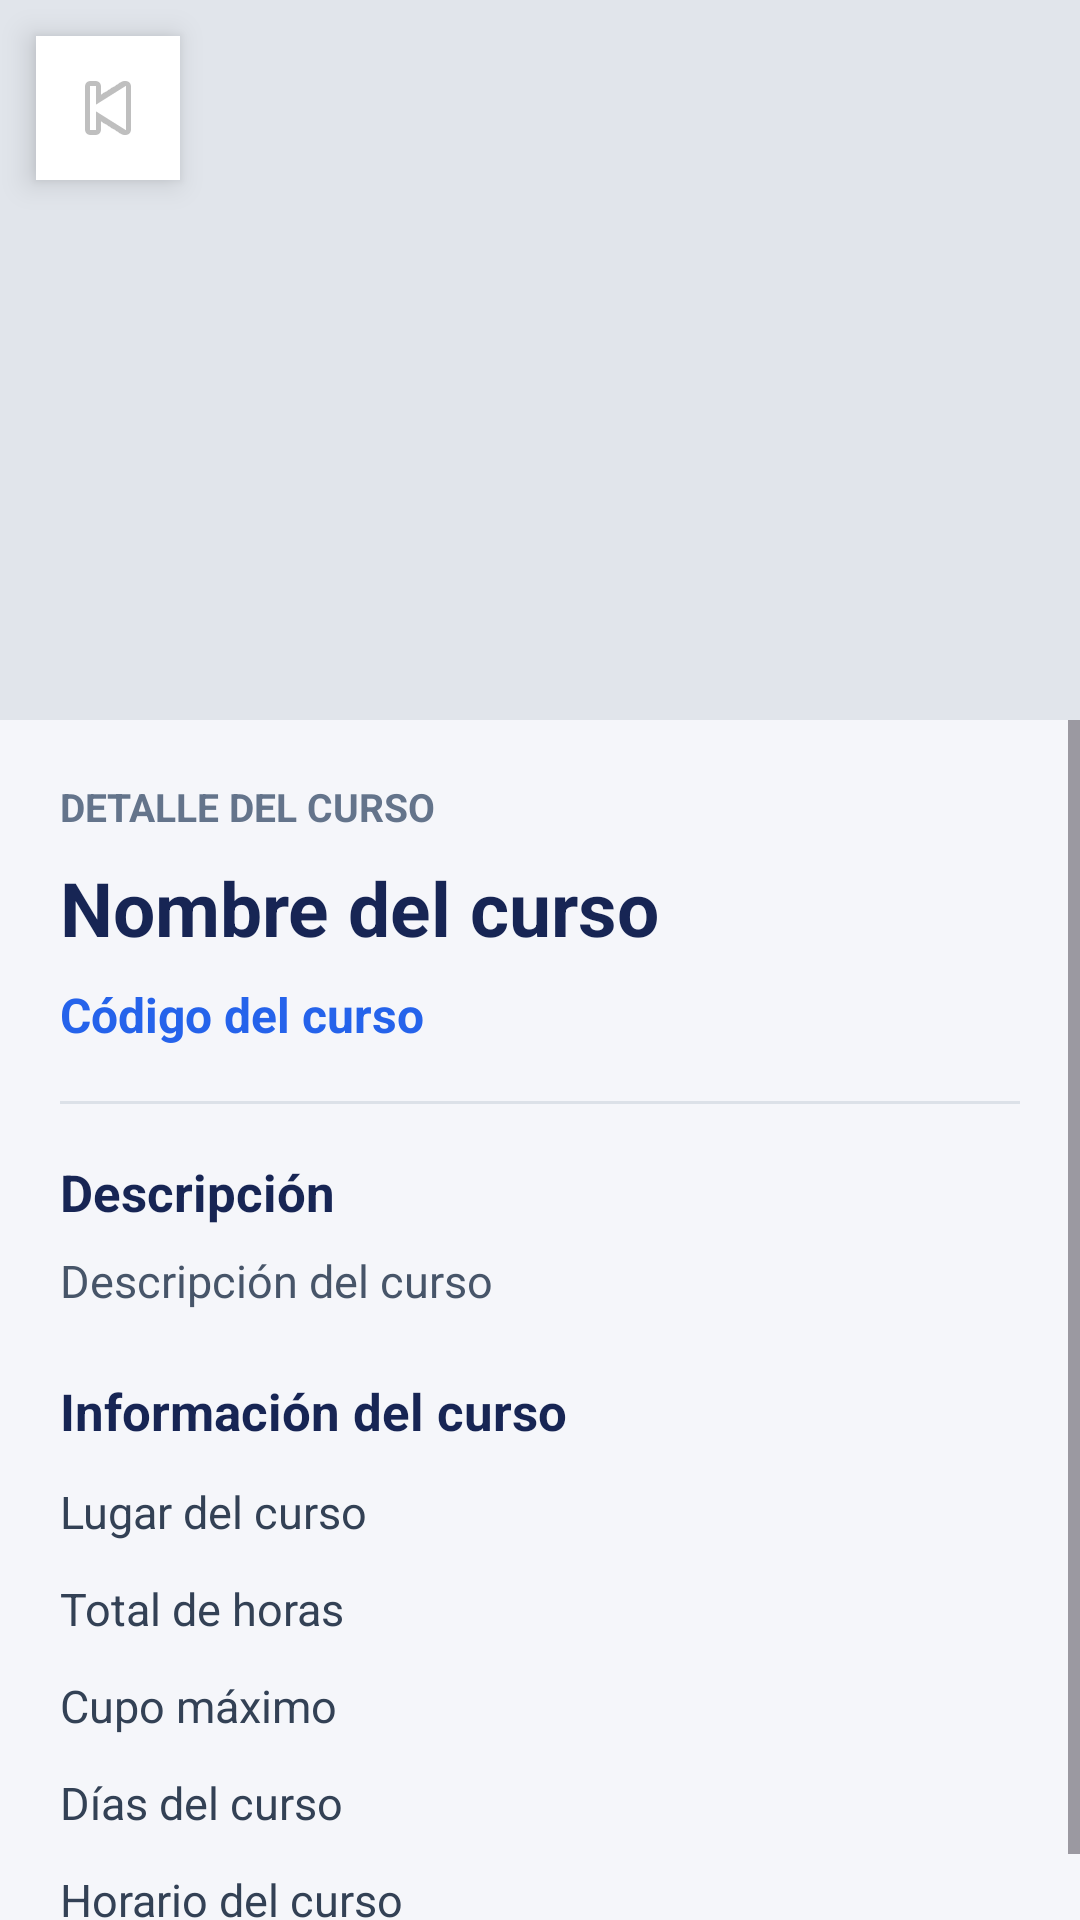

Icon click points for this 1080px×1920px phone screenshot, format [x,y]:
Regresar: [108,108]
